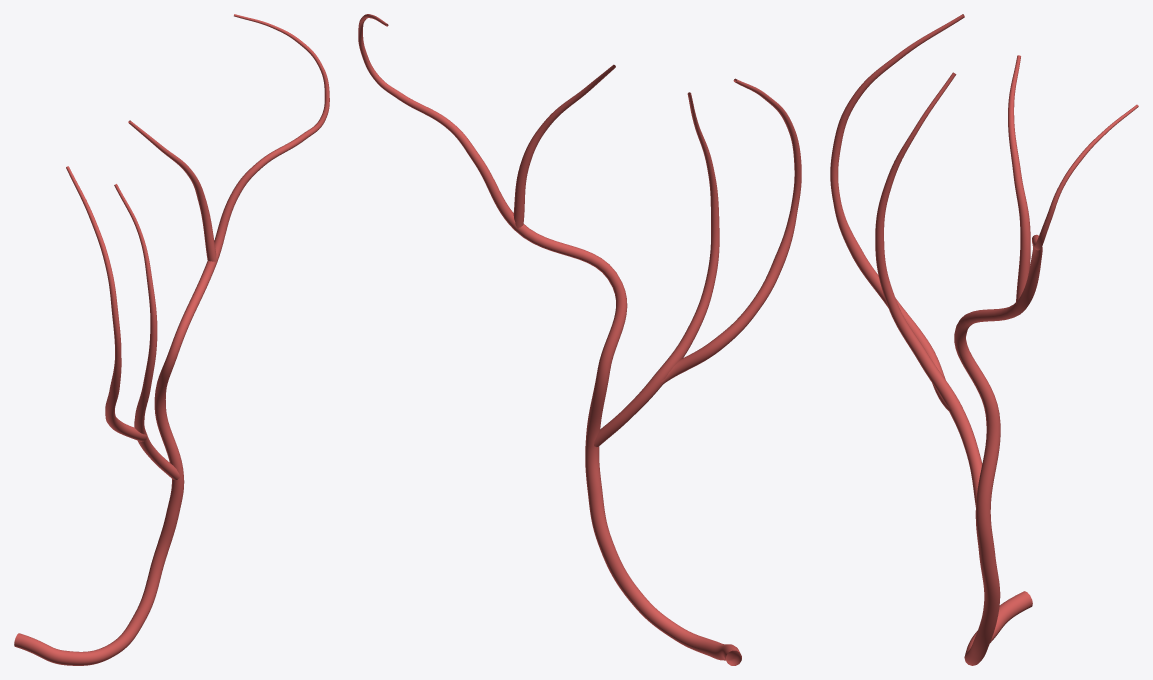
The picture shows the model from 3 angles, left to right: view 1: azimuth 30°, elevation 25°; view 2: azimuth 150°, elevation 25°; view 3: azimuth 270°, elevation 25°; orthographic projection. The views are drawn at different scales.
Parts seen in each view (by area): view 1: 左侧小脑上动脉; view 2: 左侧小脑上动脉; view 3: 左侧小脑上动脉.
Part boxes in pixels (x1,y1,x2,y2): 左侧小脑上动脉: (14,14,329,665); 左侧小脑上动脉: (358,14,801,665); 左侧小脑上动脉: (830,14,1138,665).
Size of the model in its own units: 0.0682 by 0.1102 by 0.0454.
